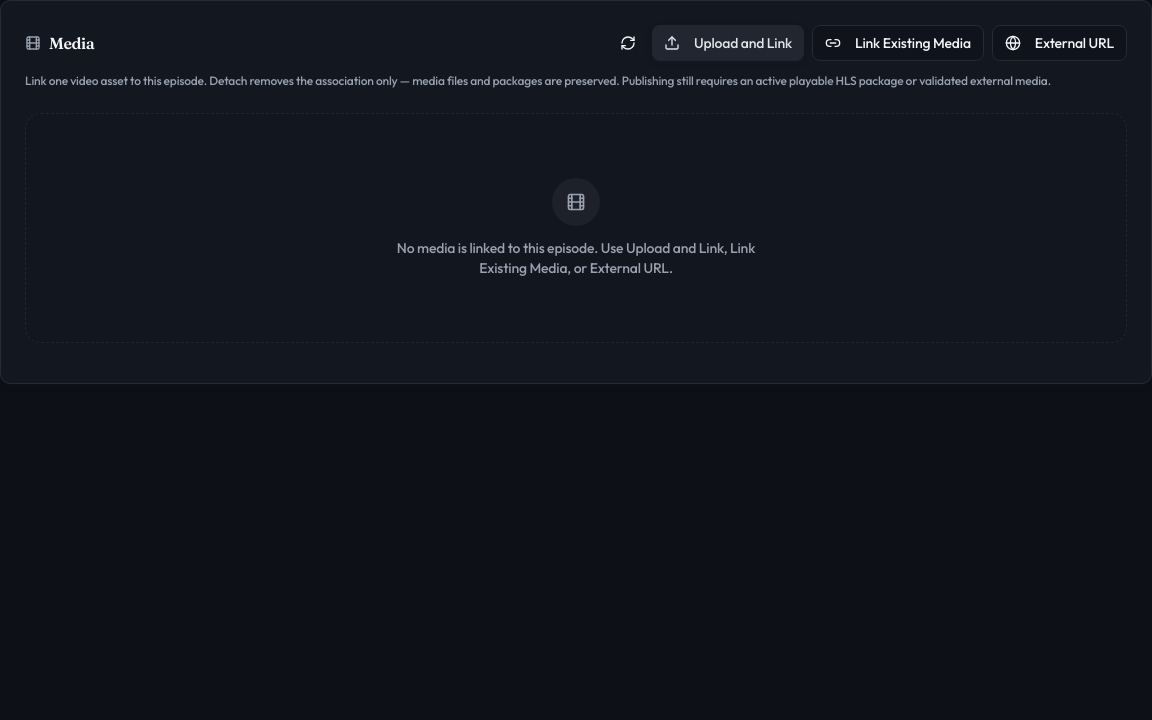
Test case: MediaLinkingCard › opens link dialog and lists unassigned assets
What coordinates should you click on to do the following:
click the button with test id "media-link-existing"
I would click on:
 (898, 43)
Its box is [812,25,984,61].
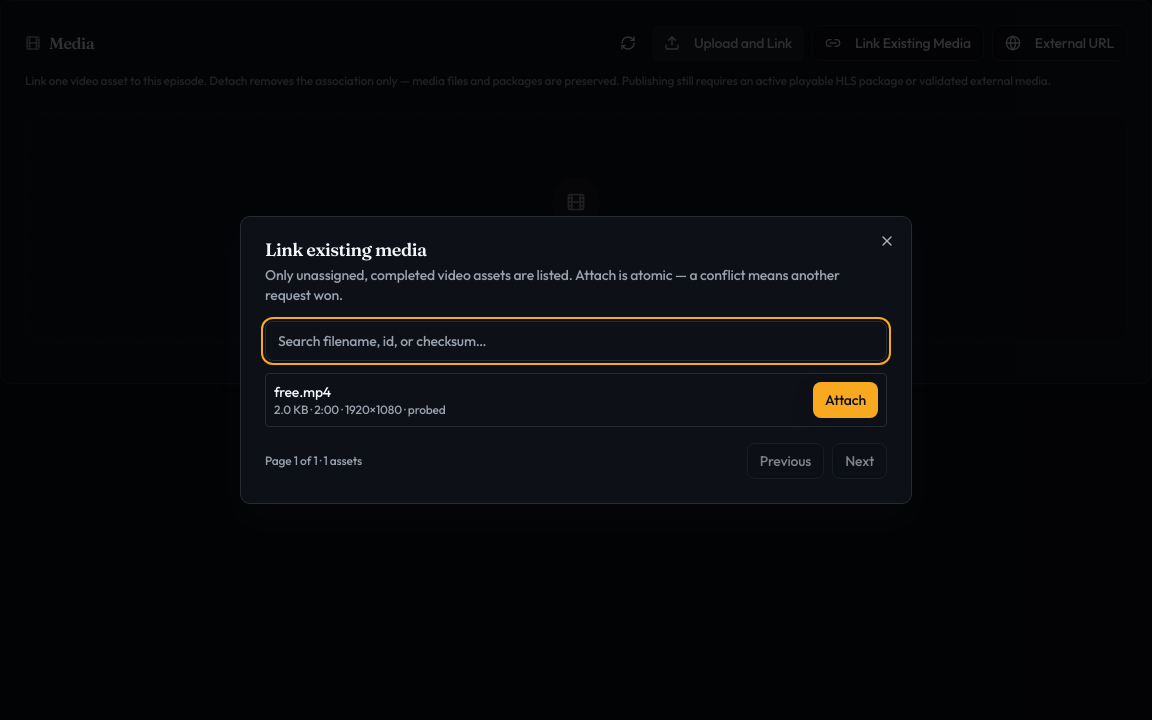
Expected: the dialog with test id "link-existing-media-dialog" is shown, [240,216,912,504]
Expected: the text "free.mp4" is shown, [274,383,331,401]
